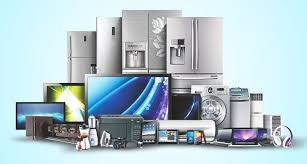AC: (161, 120, 215, 128), (252, 94, 263, 127)
Refrigerator: (167, 19, 221, 76), (123, 10, 166, 73), (96, 16, 122, 75), (67, 29, 96, 73)
